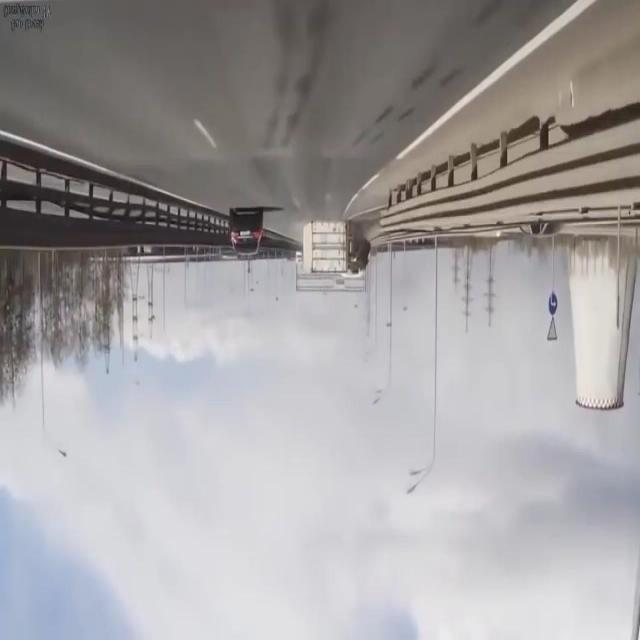severe: (298, 214, 372, 286)
